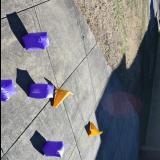cone: (52, 88, 73, 108), (88, 122, 101, 136)
cube: (20, 33, 50, 51), (40, 140, 64, 158), (28, 83, 54, 99), (0, 79, 17, 103)
